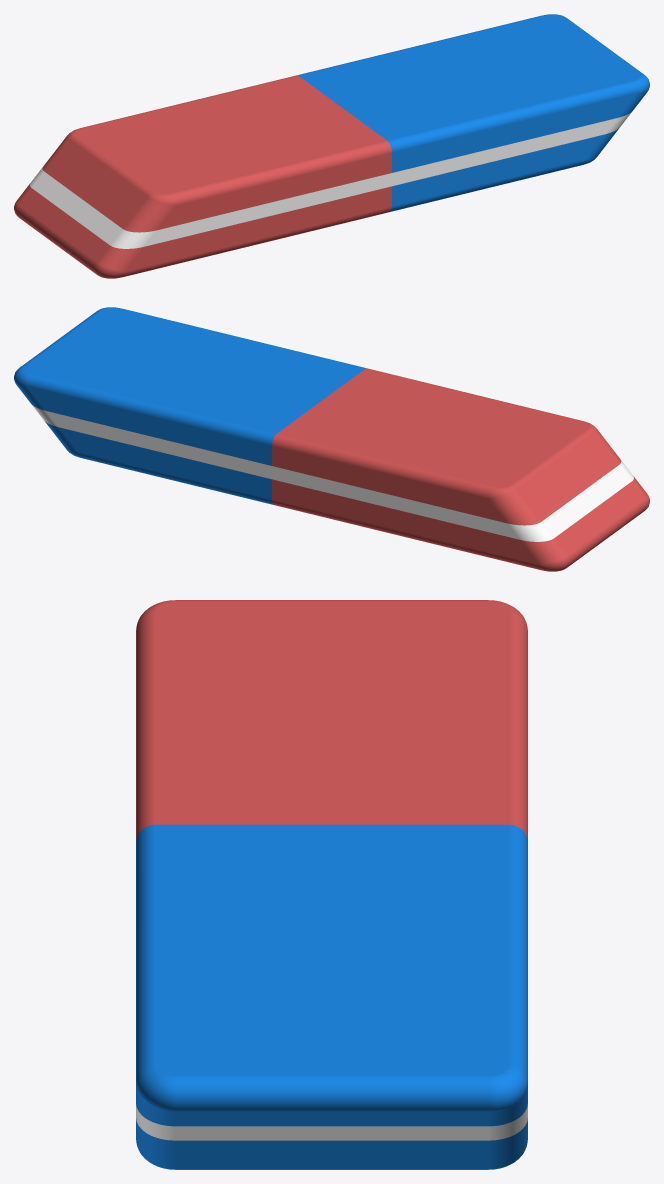
Rendered from eraser.glb.
3 renders of one model, top to bottom at view 1: azimuth 30°, elevation 25°; view 2: azimuth 150°, elevation 25°; view 3: azimuth 270°, elevation 25°, orthographic. The views are drawn at different scales.
Parts seen in each view (by area): view 1: Object_3, Object_2, Object_4; view 2: Object_3, Object_2, Object_4; view 3: Object_2, Object_3, Object_4.
Boxes of the visible parts, left/top/right/bottom form: Object_3: left=14, top=75, right=391, bottom=278; Object_2: left=298, top=14, right=649, bottom=211; Object_4: left=30, top=112, right=631, bottom=248; Object_3: left=272, top=368, right=649, bottom=571; Object_2: left=14, top=307, right=365, bottom=504; Object_4: left=32, top=405, right=633, bottom=541; Object_2: left=136, top=824, right=527, bottom=1169; Object_3: left=136, top=600, right=527, bottom=840; Object_4: left=136, top=1104, right=527, bottom=1140.
Size of the model in its own units: 652 by 80 by 200.
